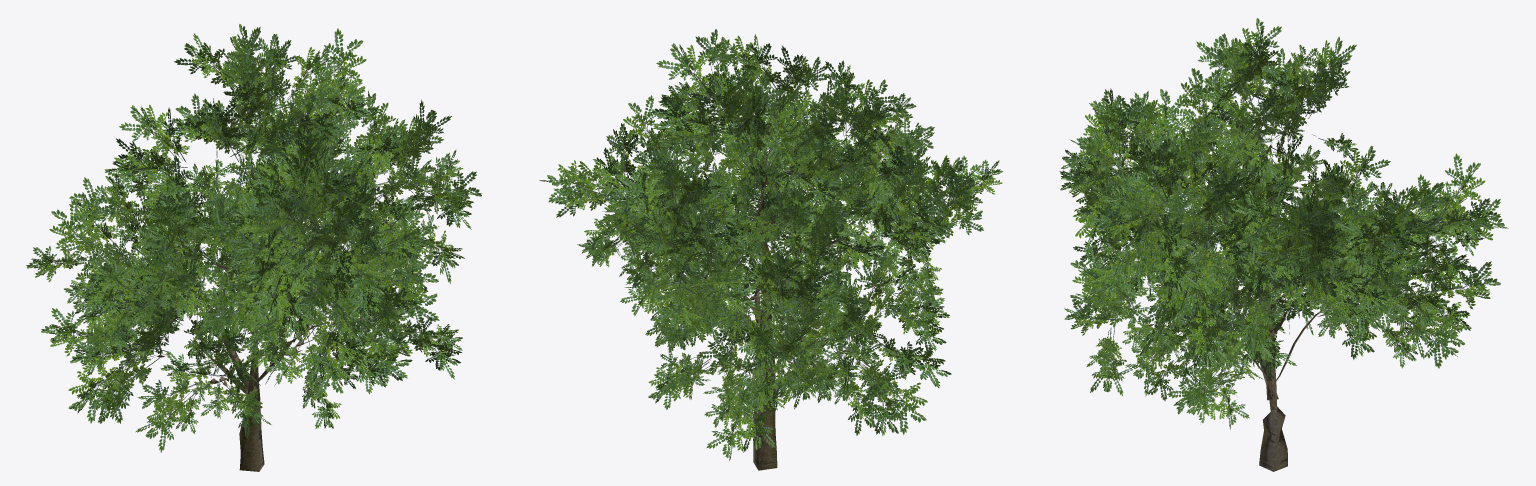
File: tree_00_large.glb
3 renders of one model, left to right at view 1: azimuth 30°, elevation 25°; view 2: azimuth 150°, elevation 25°; view 3: azimuth 270°, elevation 25°, orthographic. The views are drawn at different scales.
Visible parts, largest first — view 1: tree_00; view 2: tree_00; view 3: tree_00.
Boxes of the visible parts, bbox=[...] form: tree_00: bbox=[26, 24, 482, 471]; tree_00: bbox=[539, 29, 1003, 470]; tree_00: bbox=[1059, 18, 1508, 471].
Bounding box in the file's own units: 20.89 × 22 × 20.98.
Materials: 2 (2 with a texture image).
